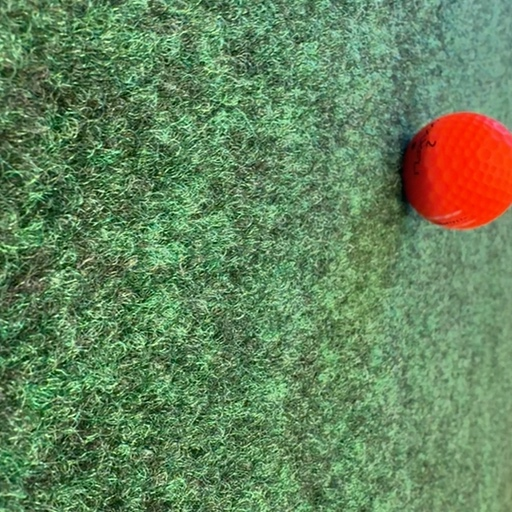Ball: (403, 112, 512, 230)
